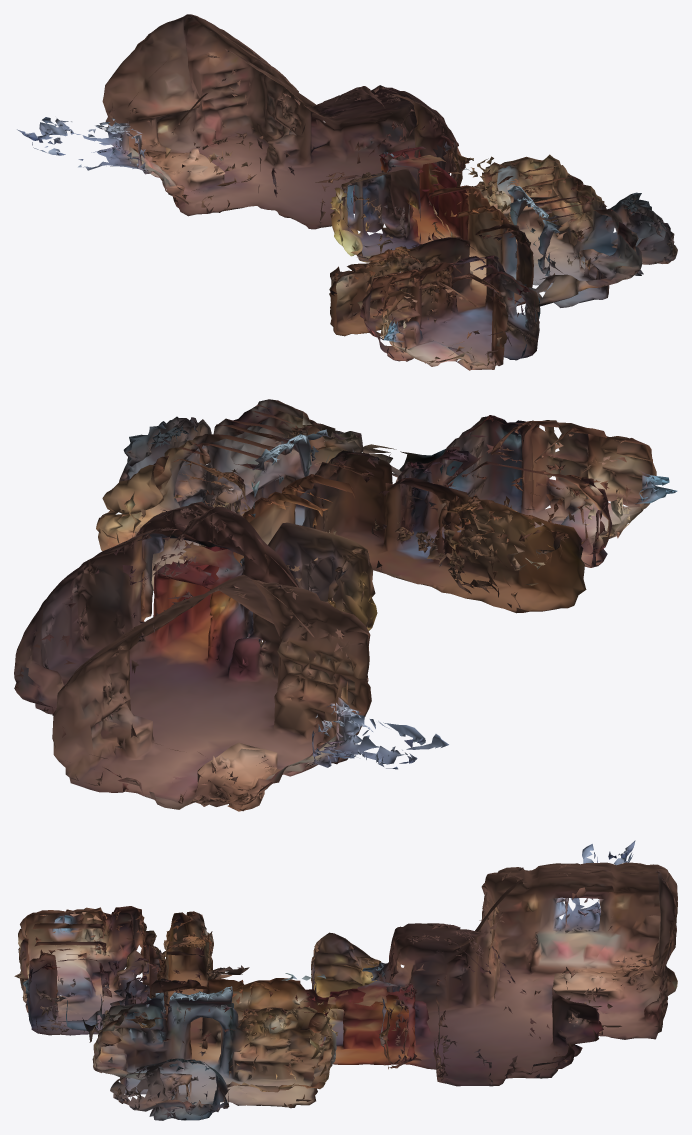
The model's file is britt_house_scene_mesh_0.glb.
3 renders of one model, top to bottom at view 1: azimuth 30°, elevation 25°; view 2: azimuth 150°, elevation 25°; view 3: azimuth 270°, elevation 25°, orthographic. The views are drawn at different scales.
Visible parts, largest first — view 1: britt_house_scene_mesh_0.obj; view 2: britt_house_scene_mesh_0.obj; view 3: britt_house_scene_mesh_0.obj.
Part boxes in pixels (bbox=[...]): britt_house_scene_mesh_0.obj: bbox=[17, 14, 677, 370]; britt_house_scene_mesh_0.obj: bbox=[14, 399, 677, 811]; britt_house_scene_mesh_0.obj: bbox=[14, 840, 677, 1120].
Size of the model in its own units: 24.23 by 7.33 by 31.03.
